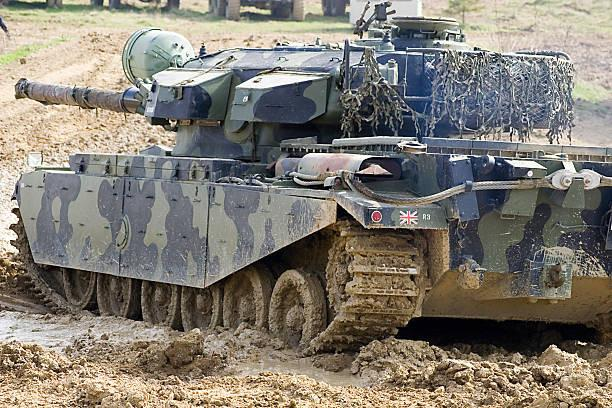tank: (12, 16, 611, 356)
